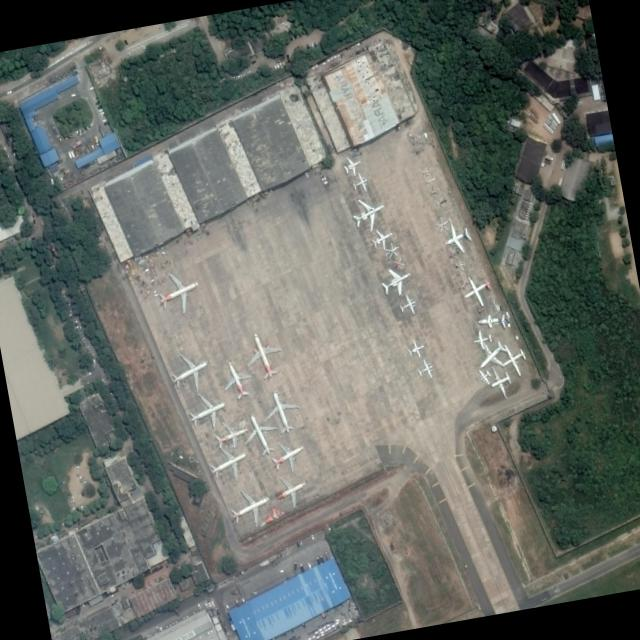large-vehicle: (299, 563, 304, 572), (316, 556, 321, 565), (320, 555, 325, 564), (325, 551, 330, 560), (294, 561, 297, 570)
plane: (164, 341, 218, 404), (151, 265, 208, 323), (181, 382, 234, 438), (238, 405, 285, 465), (225, 482, 276, 536), (258, 383, 306, 439), (205, 438, 253, 489), (216, 351, 258, 408), (469, 331, 514, 384), (347, 189, 391, 239), (376, 259, 418, 307), (456, 267, 498, 315), (265, 435, 309, 480), (437, 215, 477, 262), (271, 469, 311, 514), (210, 413, 251, 456), (496, 337, 532, 383), (484, 358, 518, 404), (367, 220, 397, 255), (475, 307, 512, 331), (394, 290, 422, 321), (339, 151, 365, 182), (348, 169, 373, 198), (403, 335, 428, 364), (413, 355, 437, 383), (469, 328, 495, 353), (474, 363, 495, 389)
small-vehicle: (127, 52, 132, 58), (142, 45, 147, 51), (49, 264, 54, 269), (6, 90, 12, 94), (124, 39, 128, 45), (276, 63, 280, 69), (279, 61, 283, 67), (6, 152, 10, 158), (241, 597, 245, 602), (35, 506, 39, 511), (81, 480, 85, 485), (3, 145, 7, 150), (89, 86, 94, 90), (299, 540, 303, 545), (242, 72, 246, 77), (101, 378, 105, 383), (87, 371, 91, 376), (72, 320, 77, 324), (67, 309, 72, 313), (283, 548, 286, 554), (311, 42, 314, 48), (231, 590, 237, 593), (308, 562, 311, 568), (79, 325, 82, 331), (197, 604, 201, 608), (70, 496, 74, 500), (68, 492, 72, 496), (80, 478, 84, 482), (78, 475, 82, 479), (77, 472, 81, 476), (103, 118, 107, 122), (251, 60, 255, 64), (86, 347, 90, 351), (85, 345, 89, 349), (80, 337, 84, 341), (70, 315, 74, 319), (69, 312, 73, 316), (60, 291, 64, 295), (12, 237, 16, 241), (6, 240, 10, 244), (306, 44, 309, 49), (211, 600, 214, 605), (204, 602, 207, 607), (236, 600, 239, 605), (71, 506, 74, 511), (110, 392, 113, 397), (58, 136, 61, 141), (311, 535, 314, 540), (274, 65, 277, 70), (74, 325, 79, 328), (31, 213, 34, 218), (226, 605, 229, 609), (252, 591, 256, 594), (279, 570, 283, 573), (285, 548, 288, 552), (297, 541, 299, 547), (166, 564, 170, 567), (81, 505, 83, 511), (70, 500, 74, 503), (76, 465, 80, 468), (37, 120, 41, 123), (309, 44, 312, 48), (237, 74, 241, 77), (83, 342, 87, 345), (82, 340, 85, 344), (61, 295, 65, 298), (78, 507, 80, 512), (93, 364, 95, 369), (110, 594, 113, 597), (115, 599, 118, 602), (72, 93, 75, 96), (208, 604, 211, 607), (207, 602, 210, 605), (247, 71, 250, 74), (227, 631, 229, 635), (40, 510, 42, 514), (61, 481, 65, 483), (233, 76, 237, 78), (93, 359, 95, 363), (92, 353, 94, 357), (33, 219, 35, 223)
